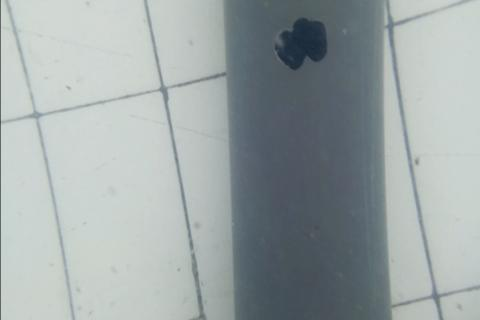kebocoran: (274, 15, 327, 69)
